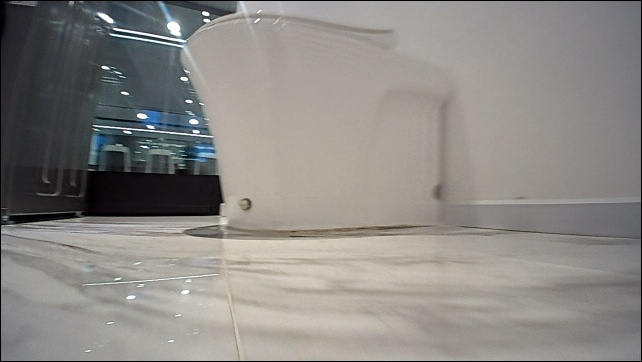toilet: (174, 10, 450, 233)
